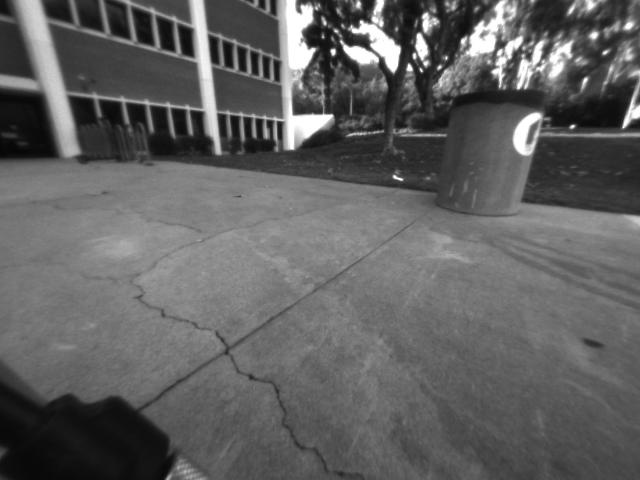trashcan: (427, 80, 557, 232)
